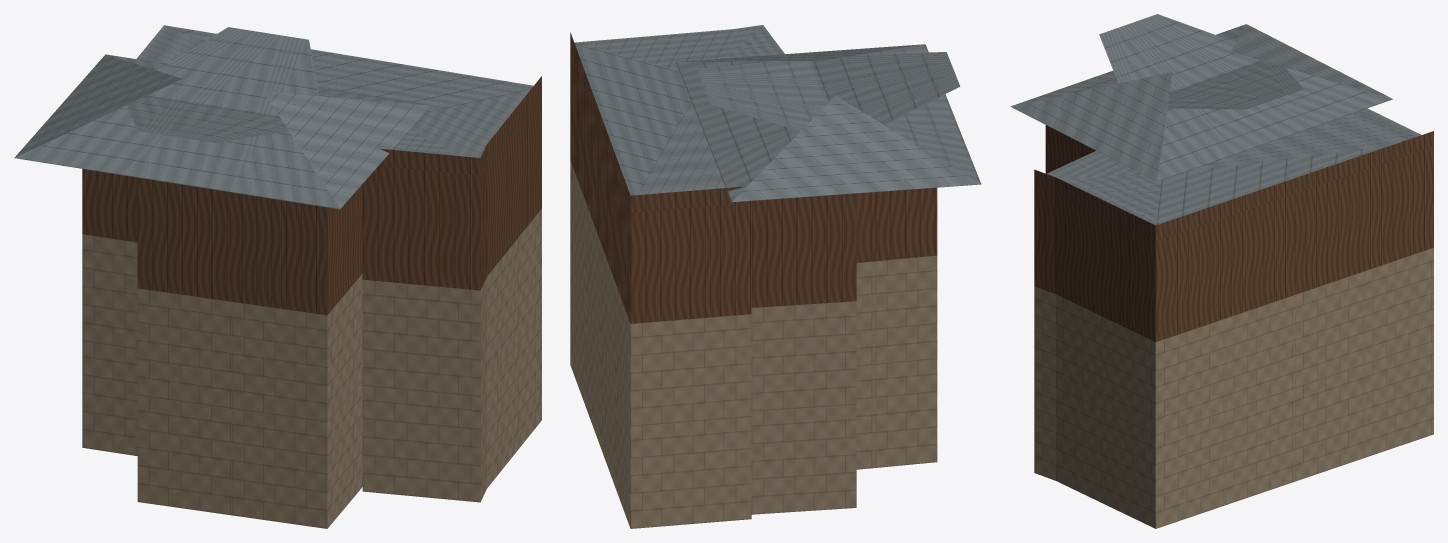
The model's file is bld_c44_32_260.gltf.
3 renders of one model, left to right at view 1: azimuth 30°, elevation 25°; view 2: azimuth 150°, elevation 25°; view 3: azimuth 270°, elevation 25°, orthographic. The views are drawn at different scales.
Parts seen in each view (by area): view 1: bld_c44_32_260; view 2: bld_c44_32_260; view 3: bld_c44_32_260.
Part boxes in pixels (box(x1,y1,x2,y2)): bld_c44_32_260: box(14, 25, 541, 528); bld_c44_32_260: box(570, 25, 981, 528); bld_c44_32_260: box(1010, 14, 1433, 528).
Size of the model in its own units: 10.68 by 8.3 by 9.34.
4 materials, 4 textured.
